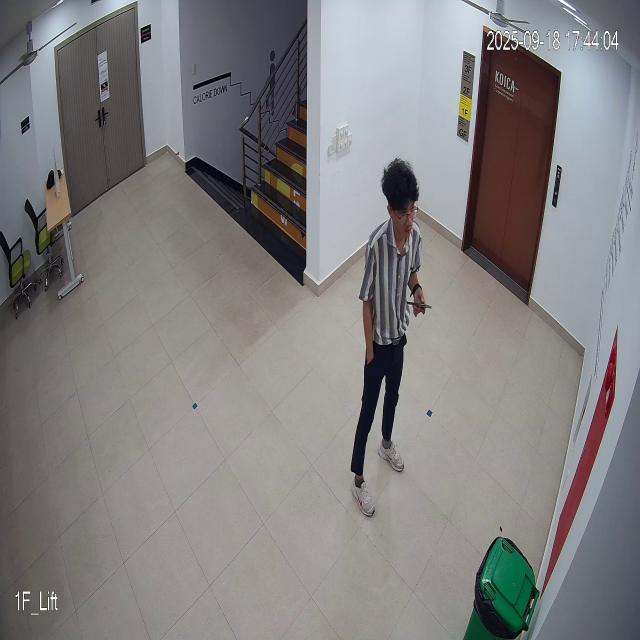face: (381, 158, 419, 242)
